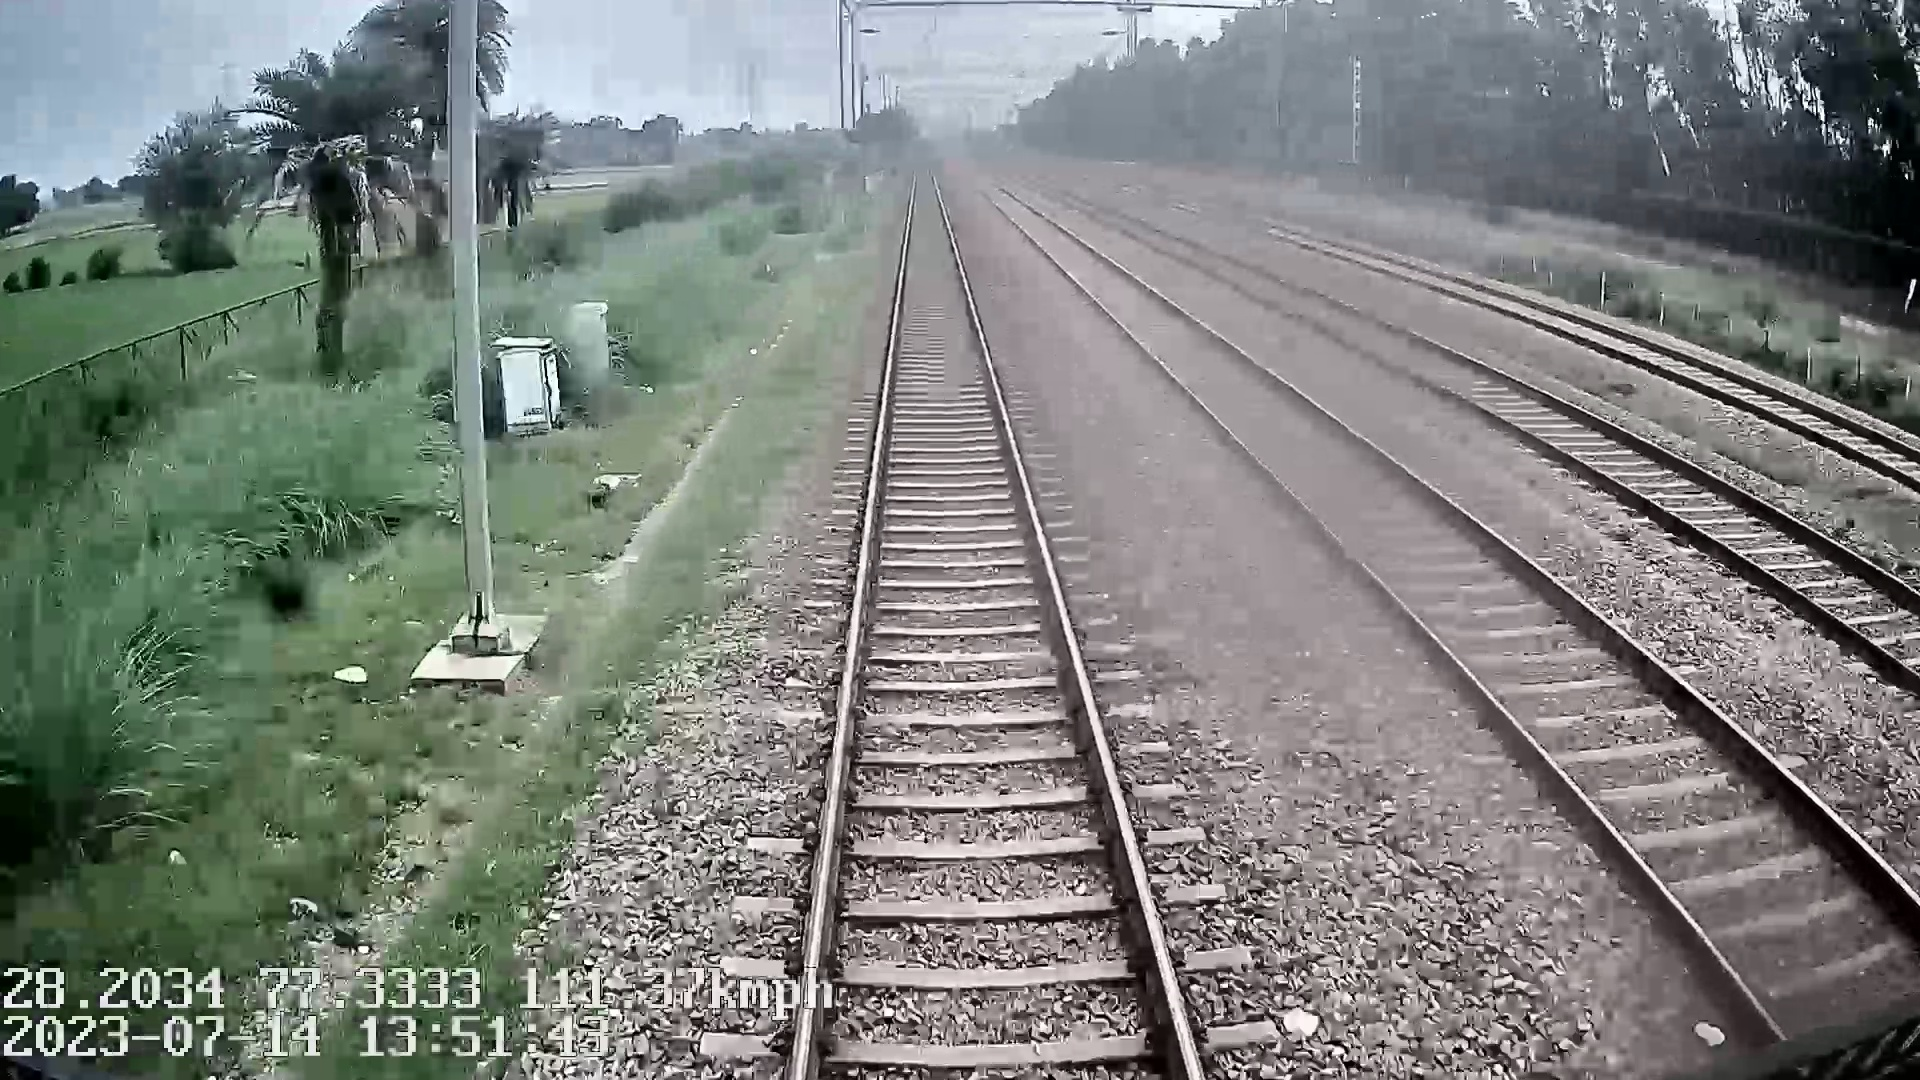track1: (803, 179, 1193, 1067)
track2: (981, 189, 1917, 1021)
track3: (1094, 215, 1914, 662)
track4: (1271, 230, 1918, 477)
